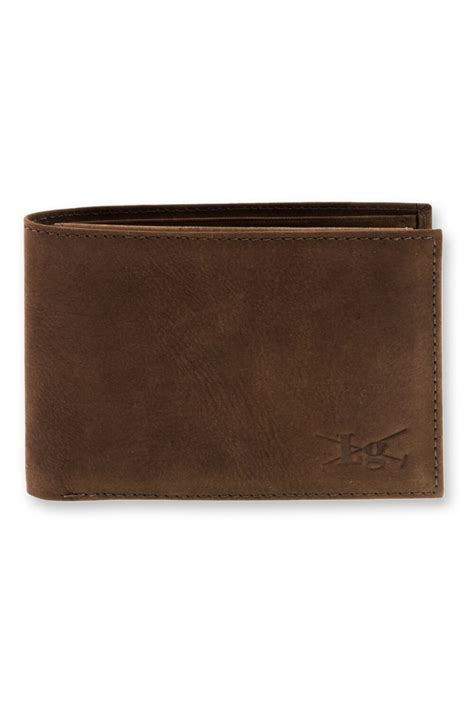gamuza: (24, 202, 445, 499)
